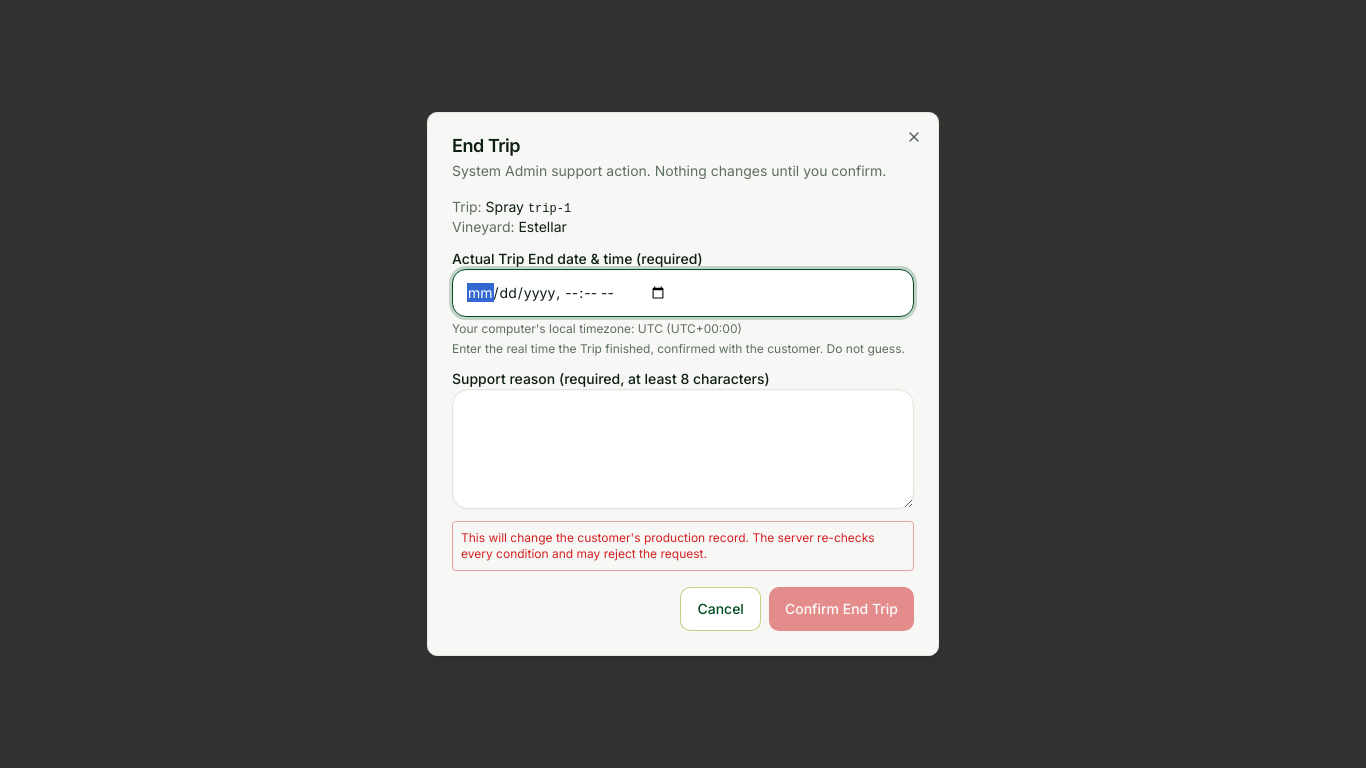
Test: End Tank / End Trip dialog: mandatory actual end time › valid End Trip success shows chosen time, status and audit
The image size is (1366, 768).
Type "2026-09-23T23:30" into the field labelled "Actual Trip End date & time (required)".
click(683, 293); type("2026-09-23T23:30")  # box [452,269,914,317]
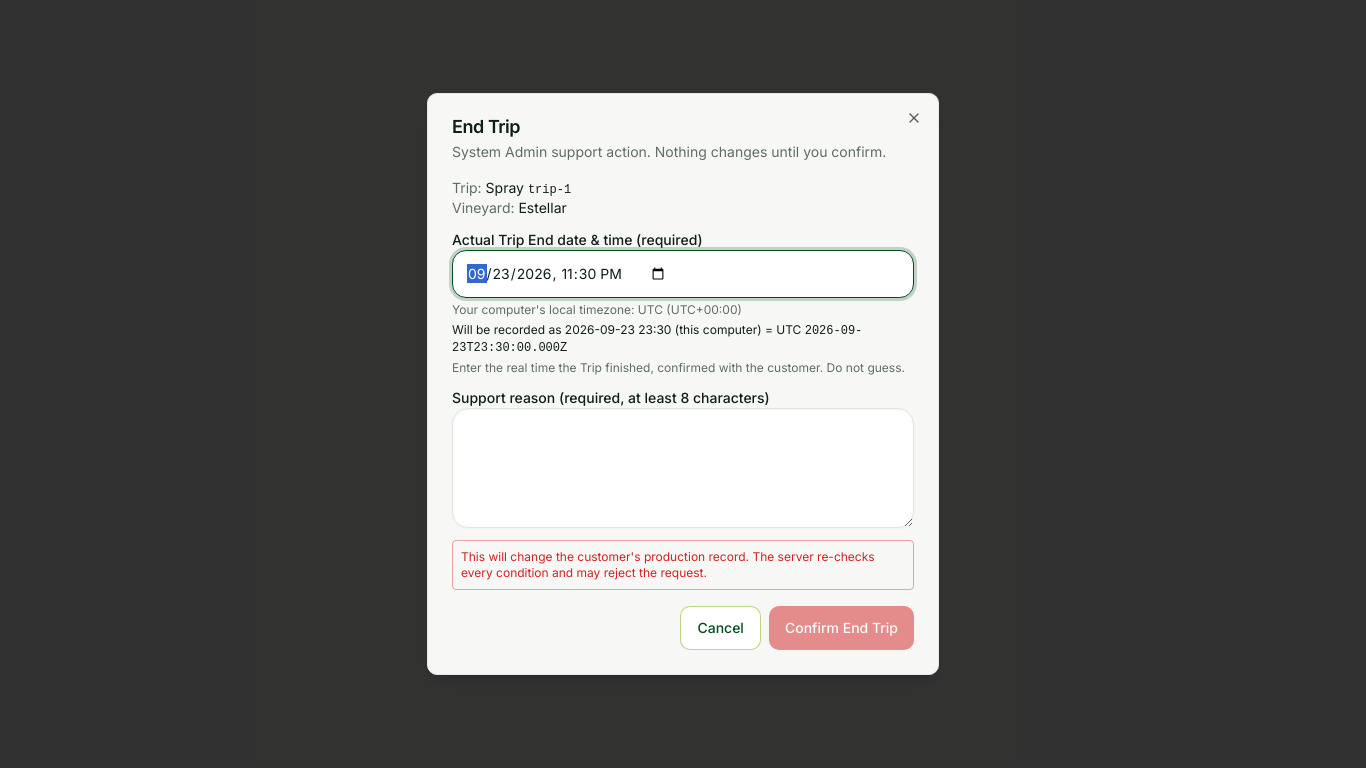
Type "Operator confirmed" into the text box labelled "Support reason (required, at least 8 characters)".
click(683, 468); type("Operator confirmed")  # box [452,408,914,528]
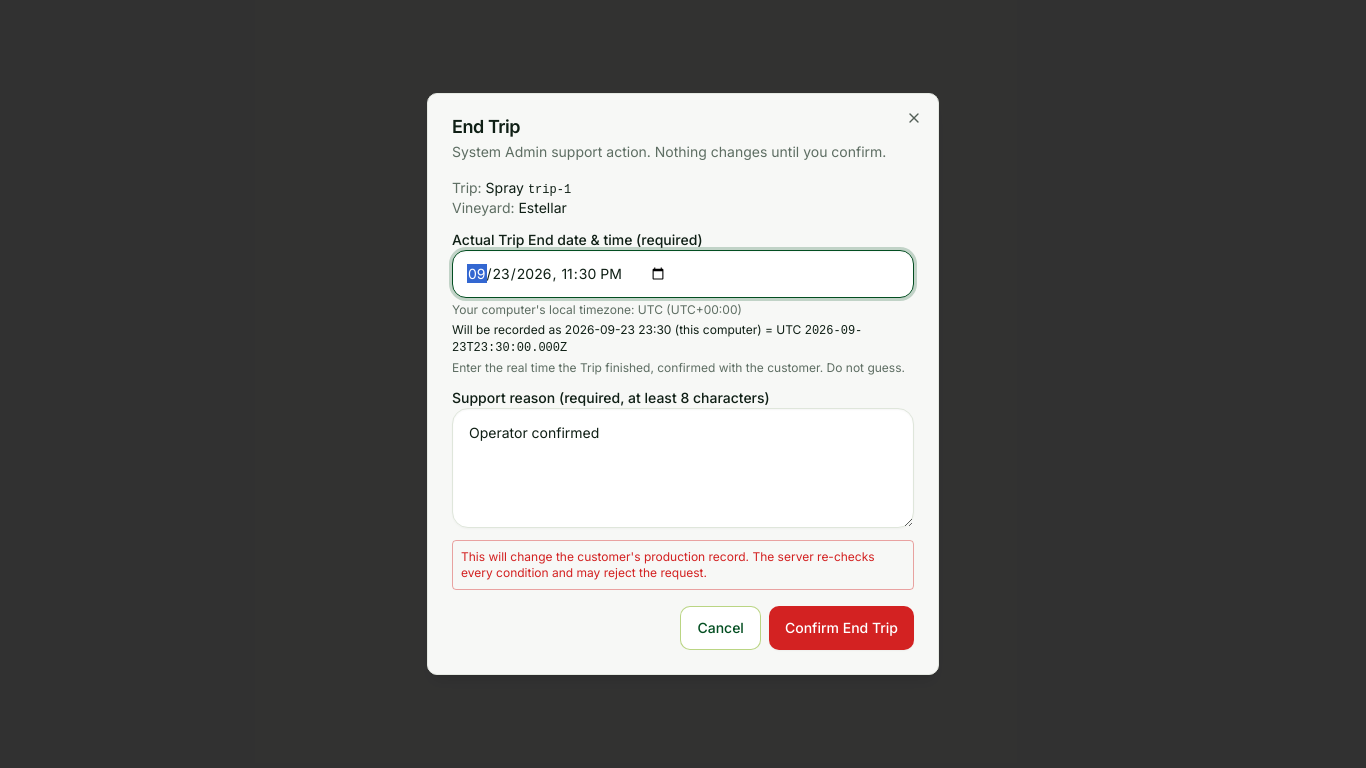
Click the button "Confirm End Trip".
click(841, 628)  # box [769,606,914,650]
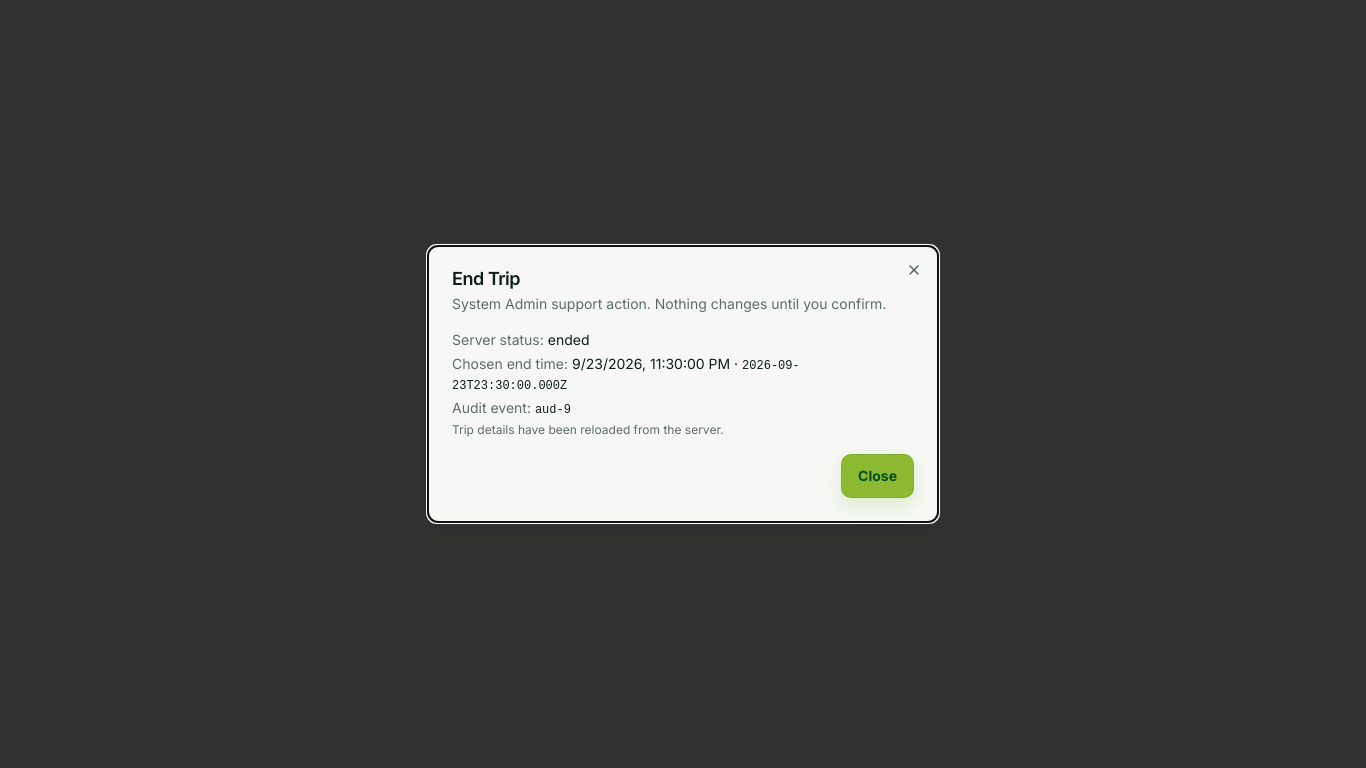
expect the element with test id "lifecycle-result" shows "aud-9": met, box [535,403,571,417]
